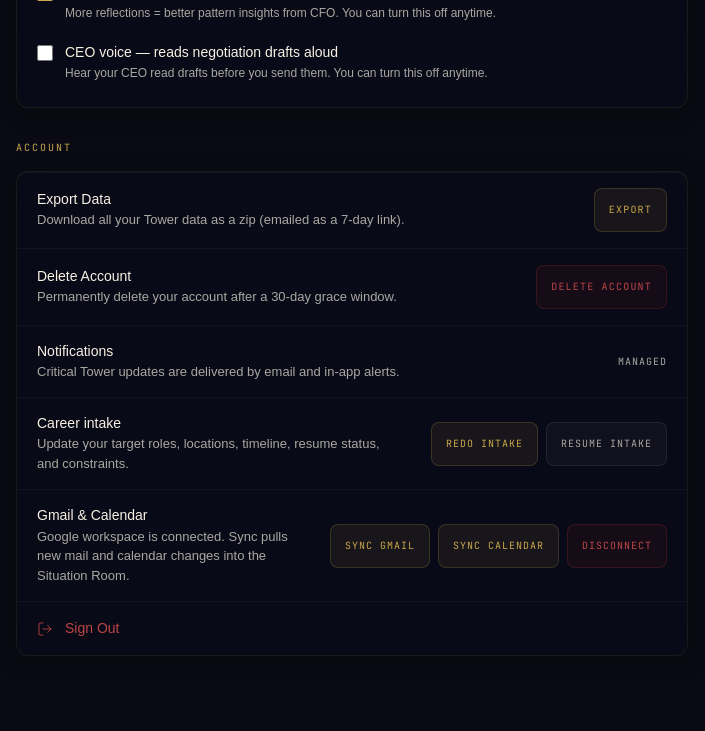
Test case: SettingsClient connected services › surfaces Google provider setup failures from manual sync
The width and height of the screenshot is (705, 731).
(page scrolled)
Click the button "Sync Calendar" at (498, 546), box [438,524,559,568]
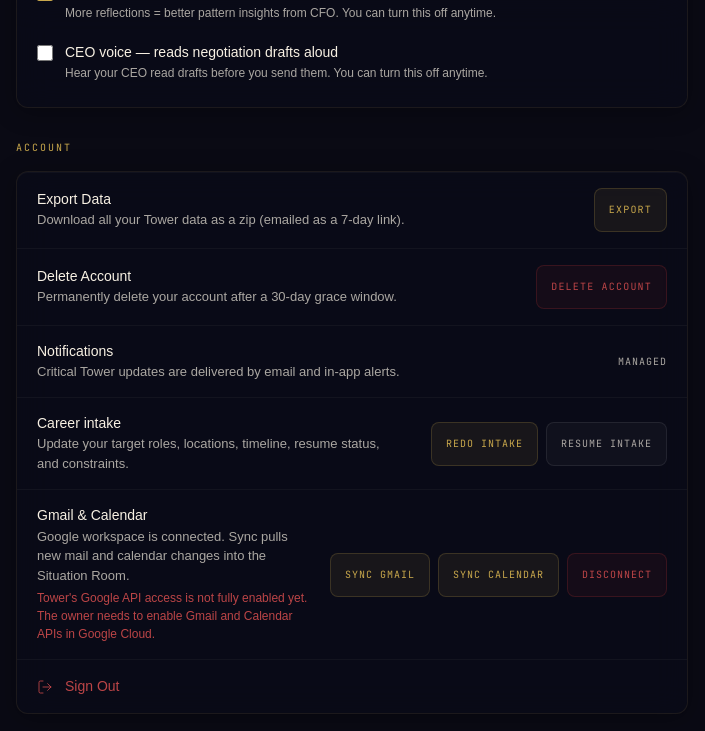
Now the text "Tower's Google API access is not fully enabled yet." is shown, box [37,591,307,641]
